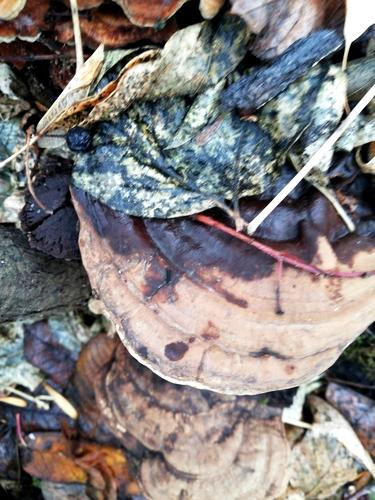Ganoderma - Fruit Body: (70, 70, 375, 391), (92, 408, 291, 500)
